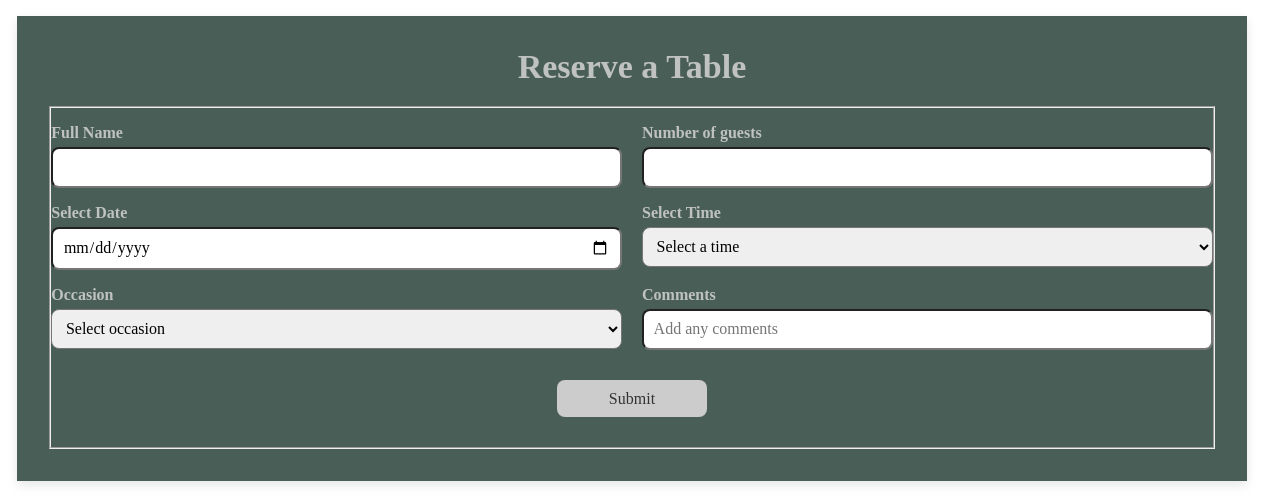
Test: Submit button is enabled when form is valid
This screenshot has width=1265, height=503.
Type "John" into the field named "Full Name" at (337, 167), box [51,147,622,188]
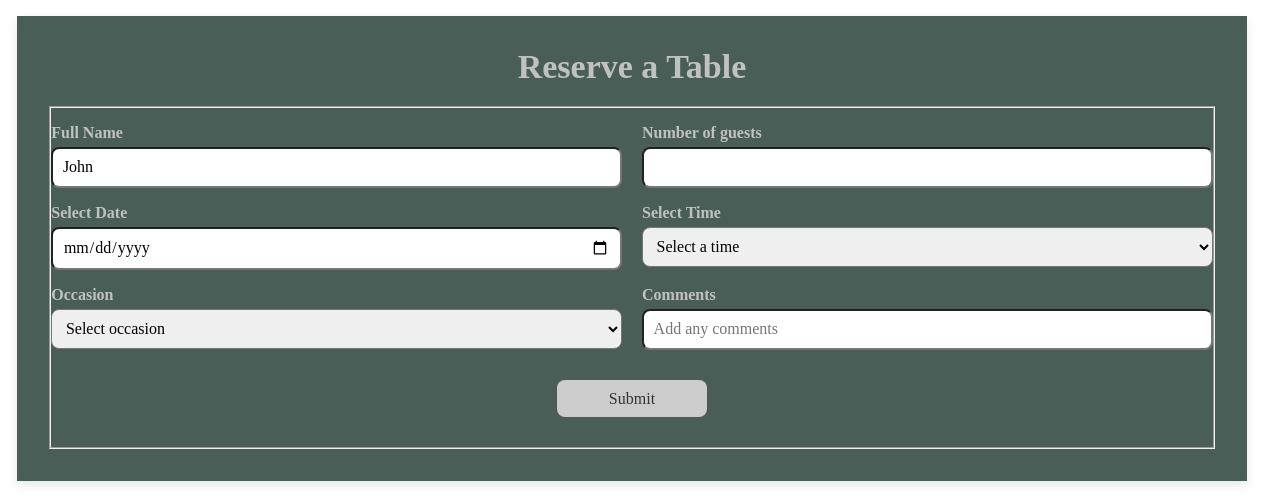
Type "2025-04-21" into the date field named "Select reservation date" at (337, 248), box [51,227,622,270]
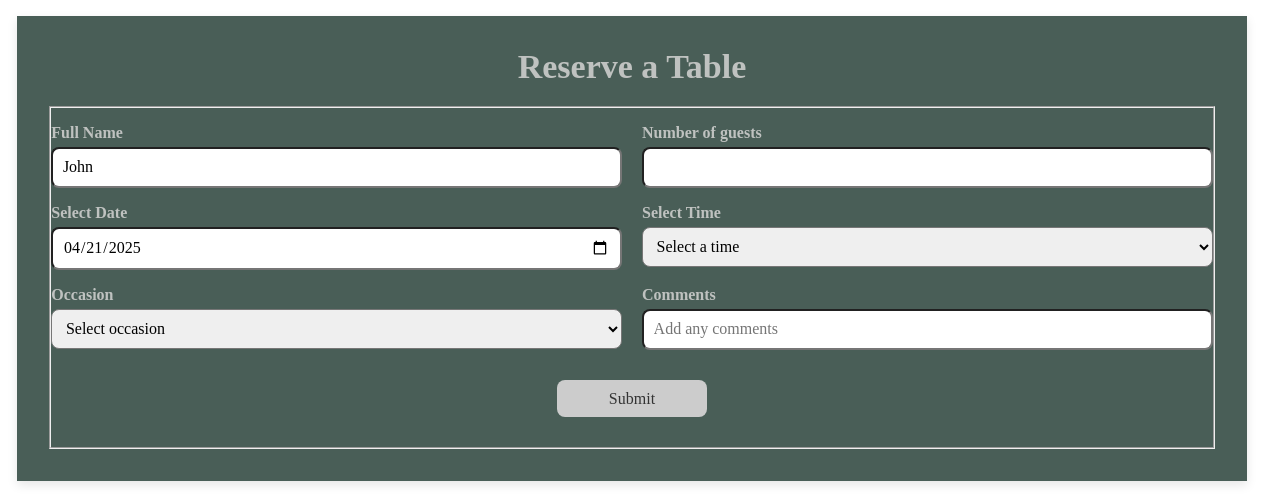
Select "17:00" in the dropdown named "Select reservation time" at (927, 247), box [642,227,1213,267]
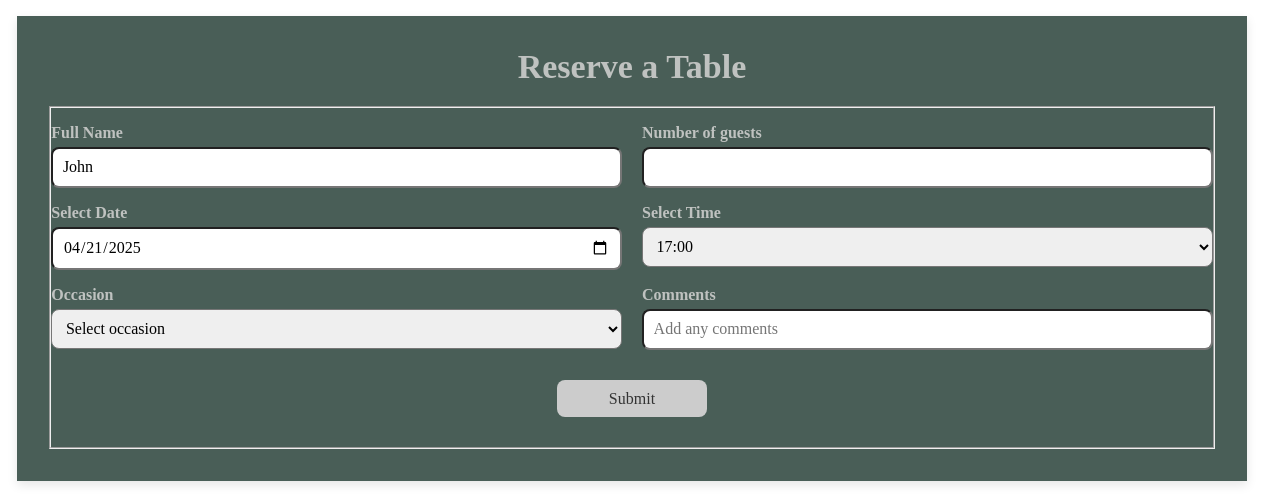
Type "2" into the number field labelled "Number of guests" at (927, 167), box [642,147,1213,188]
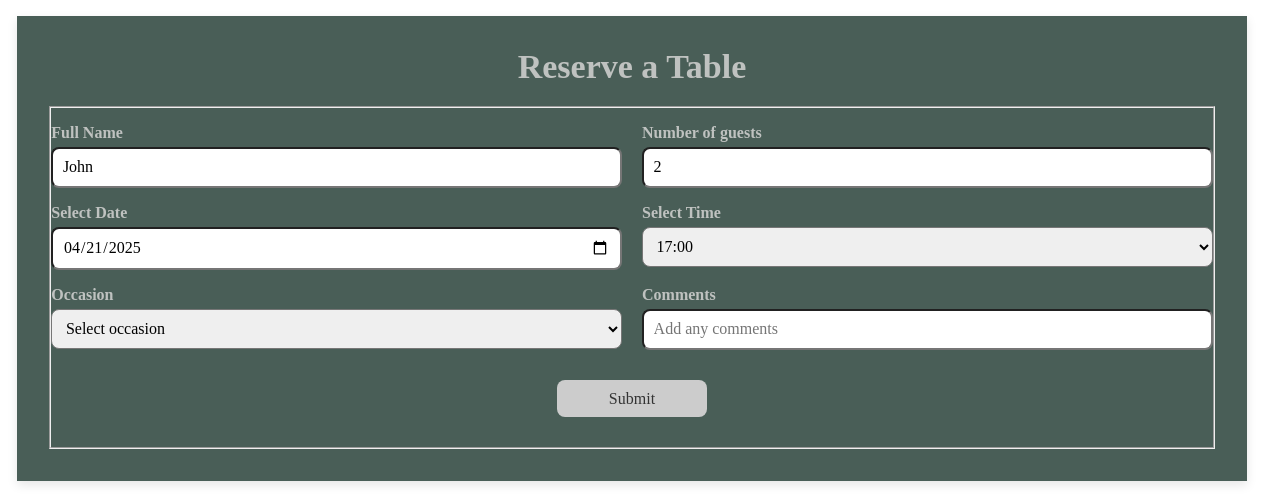
Select "Birthday" in the dropdown labelled "Occasion" at (337, 329), box [51,309,622,349]
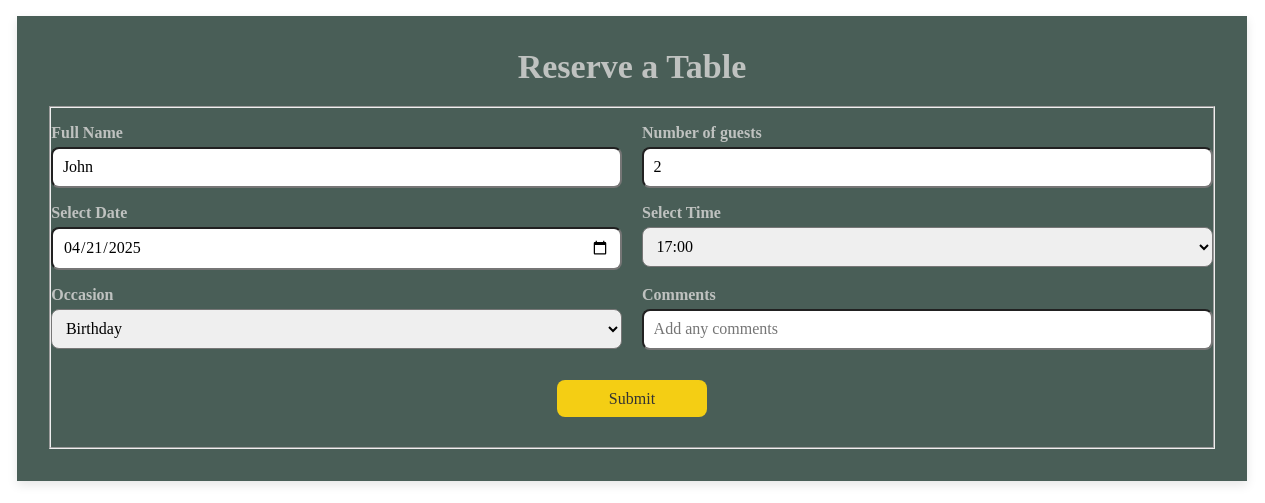
Check: the button with aria-label "submit reservation form" is enabled, box [557,380,707,417]
